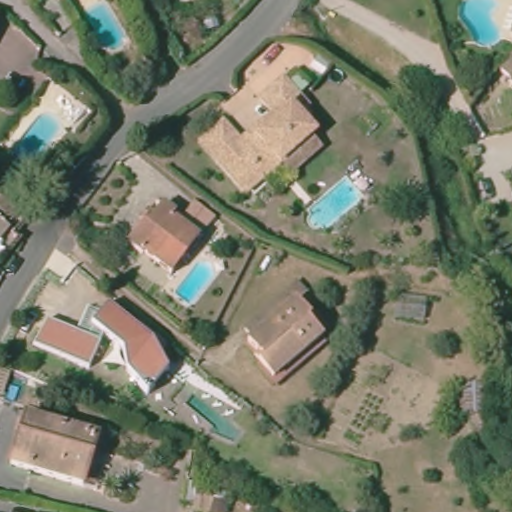pool: (177, 388, 247, 445), (298, 173, 364, 233), (6, 114, 65, 169), (444, 1, 505, 52), (80, 2, 133, 59), (172, 259, 221, 310)
